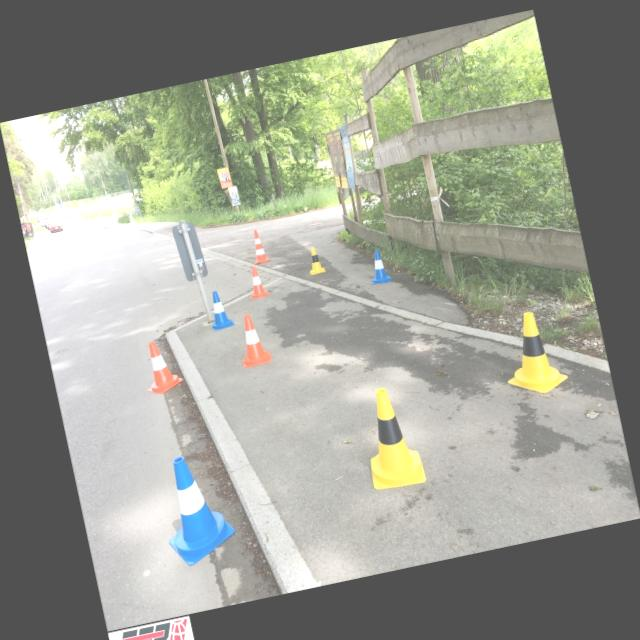blue_cone: (151, 448, 239, 568), (205, 288, 235, 330), (364, 246, 393, 286)
orange_cone: (136, 336, 184, 396), (232, 310, 272, 368), (248, 228, 272, 264), (243, 266, 269, 298)
yellow_cone: (352, 380, 427, 490), (494, 307, 568, 396), (306, 245, 326, 275)
